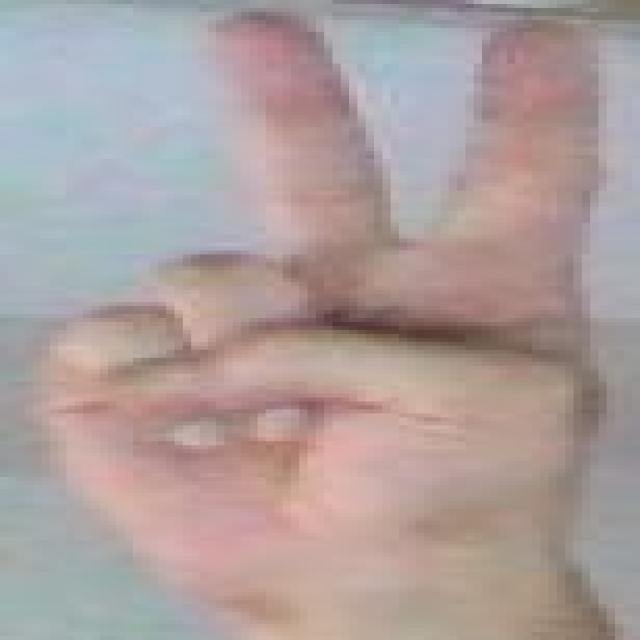V: (0, 6, 635, 607)
